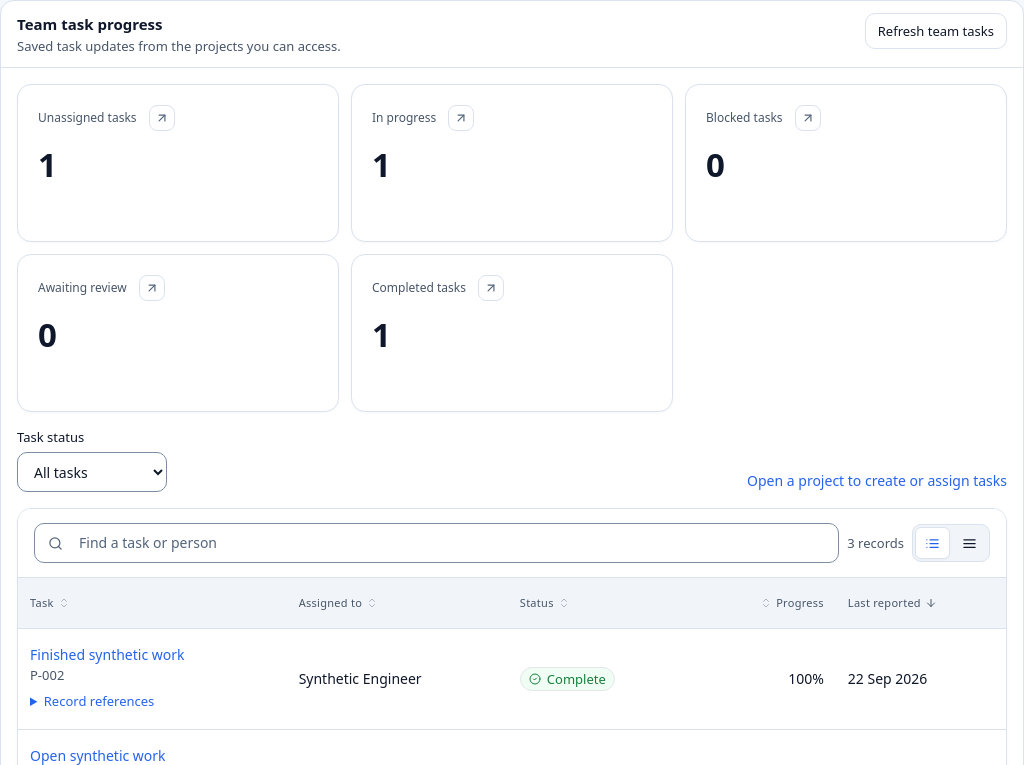
Manager task visibility › shows saved completed tasks and links directly to their project task editor
Expected: the button "Completed tasks 1" is shown, [352,255,672,411]
Select "Completed" in the dropdown labelled "Task status" at (92, 472), box [17,452,167,492]
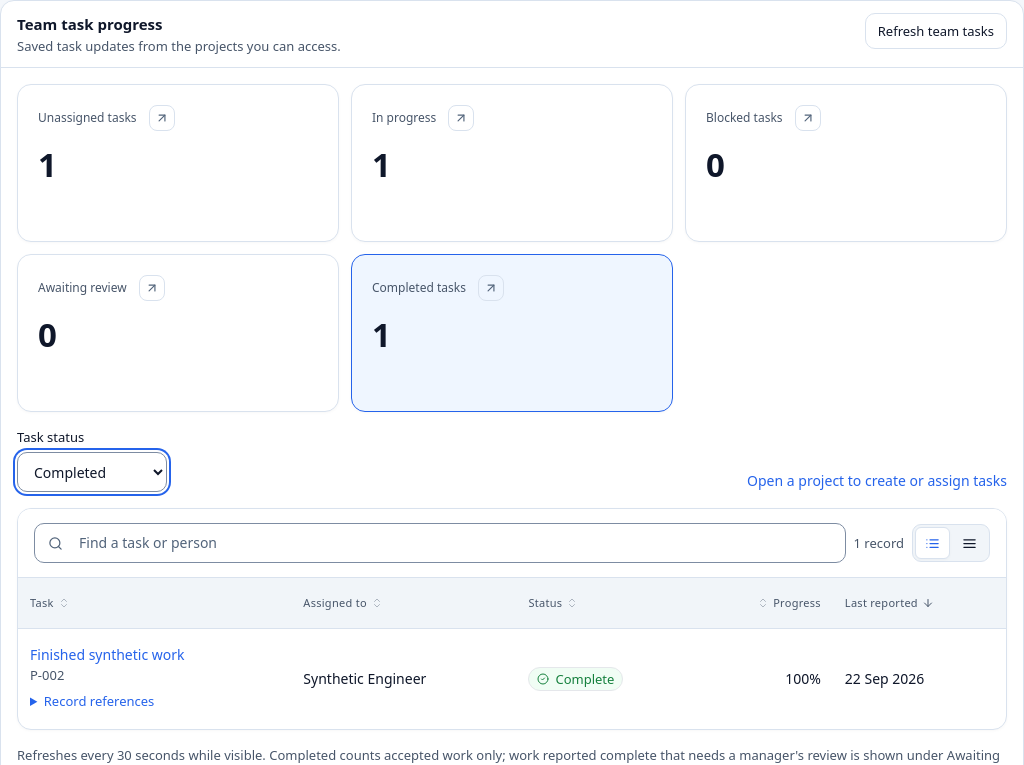
Expected: the text "100%" is shown, [785,669,821,688]
Result: the link "Open synthetic work" is gone
